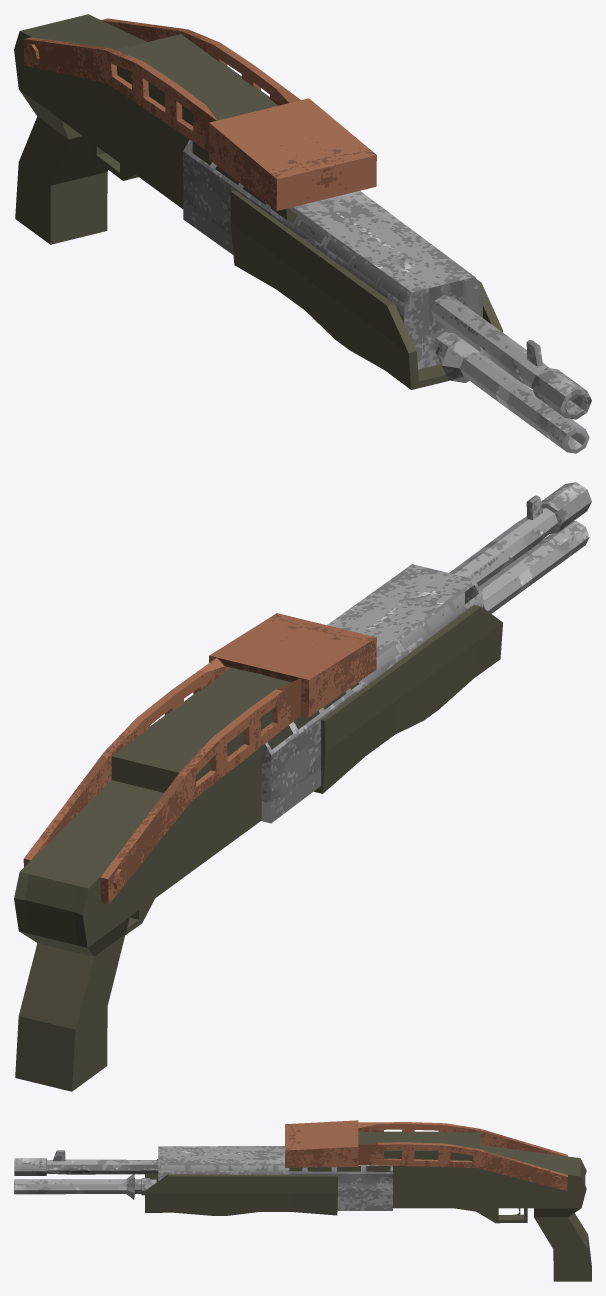
The model's file is Big gun.fbx.
3 renders of one model, top to bottom at view 1: azimuth 30°, elevation 25°; view 2: azimuth 150°, elevation 25°; view 3: azimuth 270°, elevation 25°, orthographic. The views are drawn at different scales.
Parts seen in each view (by area): view 1: Cube.069, Cube.072, Cube.073, Cube.070; view 2: Cube.069, Cube.073, Cube.072, Cube.070; view 3: Cube.069, Cube.072, Cube.073, Cube.070.
Boxes of the visible parts, <box> form: Cube.069: <box>14,14,298,244</box>; Cube.072: <box>183,139,591,453</box>; Cube.073: <box>23,18,376,210</box>; Cube.070: <box>230,190,502,389</box>; Cube.069: <box>14,667,358,1091</box>; Cube.073: <box>23,613,376,904</box>; Cube.072: <box>261,482,591,823</box>; Cube.070: <box>314,605,502,793</box>; Cube.069: <box>289,1131,591,1281</box>; Cube.072: <box>14,1146,392,1210</box>; Cube.073: <box>285,1120,567,1190</box>; Cube.070: <box>145,1159,337,1215</box>.
Size of the model in its own units: 50.68 by 126 by 468.
